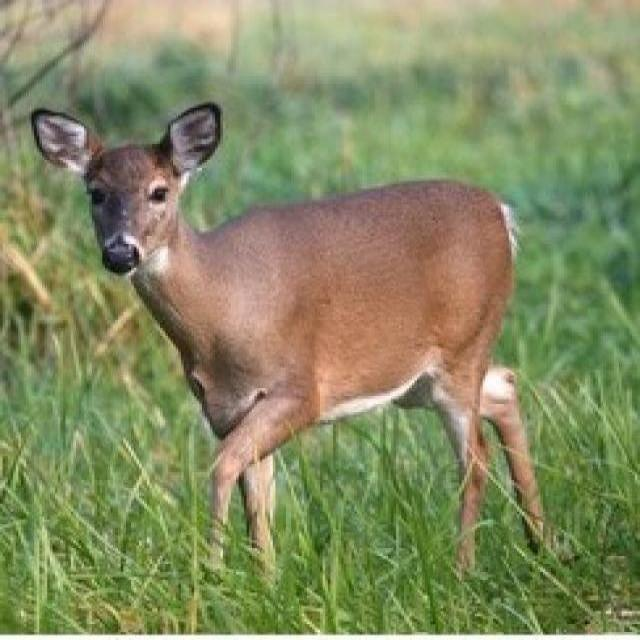deer: (26, 108, 554, 567)
